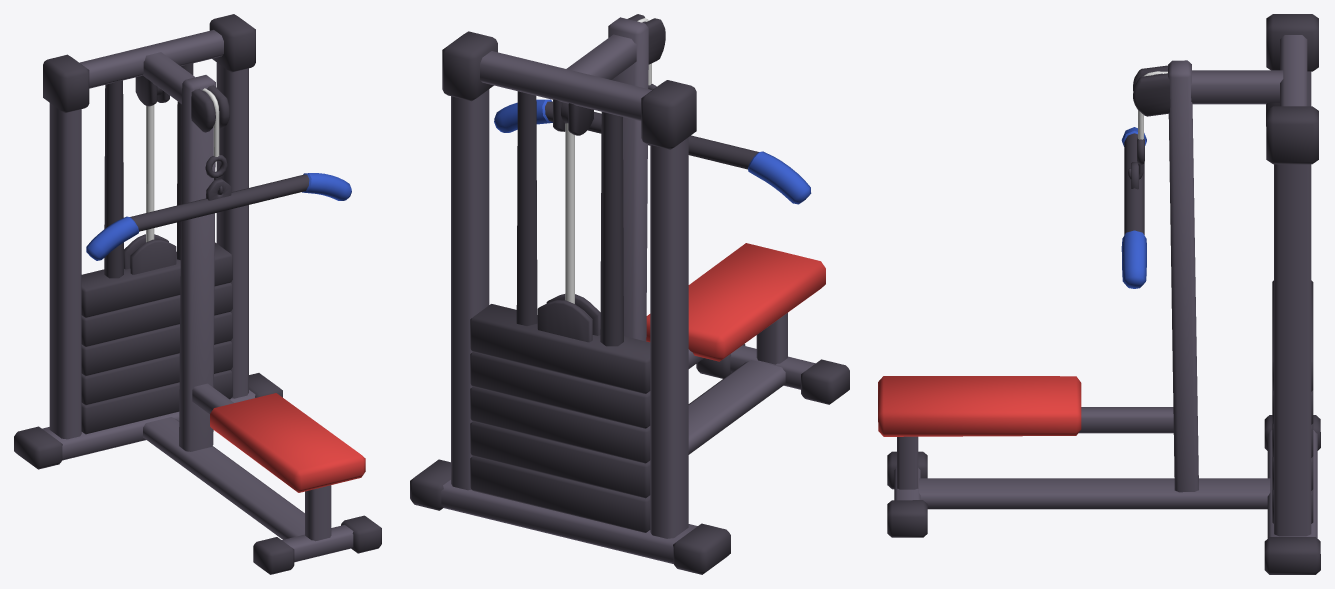
The model's file is Lat_Pulldown_Machine_v01.fbx.
3 renders of one model, left to right at view 1: azimuth 30°, elevation 25°; view 2: azimuth 150°, elevation 25°; view 3: azimuth 270°, elevation 25°, orthographic. The views are drawn at different scales.
Visible parts, largest first — view 1: Lat_Pulldown_Machine_v01; view 2: Lat_Pulldown_Machine_v01; view 3: Lat_Pulldown_Machine_v01.
Part boxes in pixels (x1,y1,x2,y2): Lat_Pulldown_Machine_v01: [14, 14, 381, 574]; Lat_Pulldown_Machine_v01: [410, 14, 849, 574]; Lat_Pulldown_Machine_v01: [878, 14, 1320, 574].
Size of the model in its own units: 1.28 by 1.81 by 1.64.
Materials: 1 (1 with a texture image).
